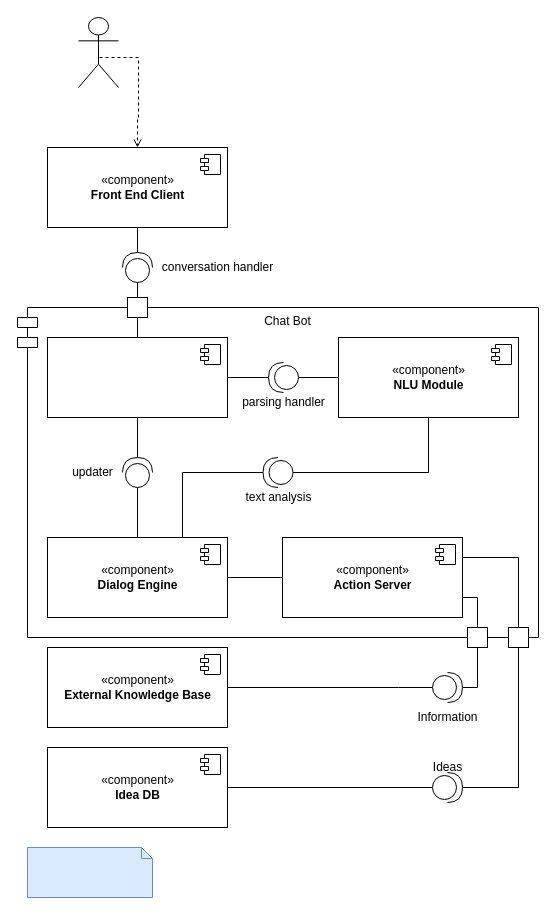
Image size: 556x915. Some labels were removed from this diagram. Each missing label, with the box of its shape:
AS-EX 5.3a Grupo 601 (DF, DC, ST, FC) v2022/04/06: (26, 846, 152, 898)
USERS: (78, 16, 118, 88)
«component» Conversion Manager: (46, 336, 228, 418)
